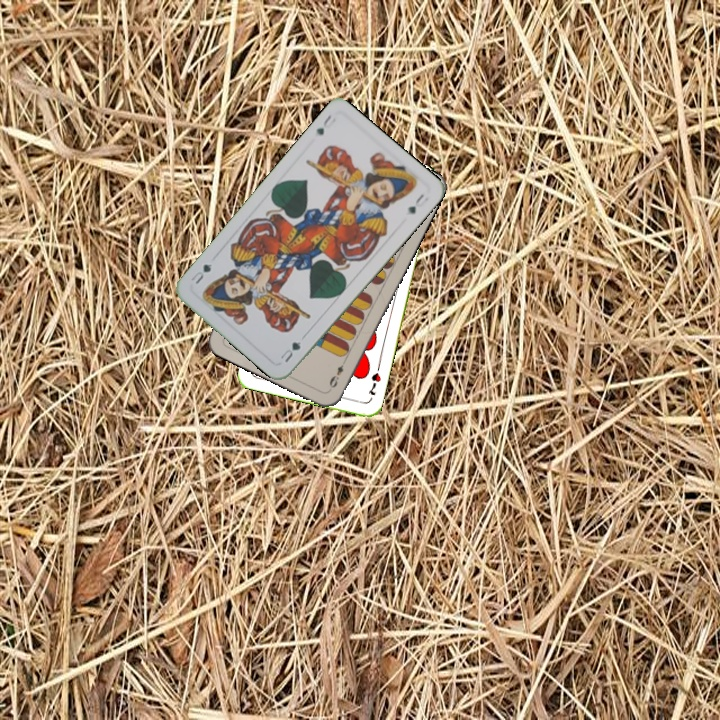E9: (325, 355, 349, 393)
GU: (276, 336, 304, 365), (311, 111, 339, 138)
H7: (364, 369, 383, 398)
